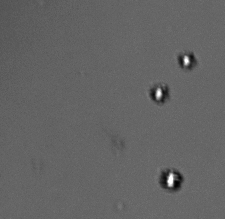Living Cell: (157, 166, 183, 193), (148, 83, 171, 105), (175, 49, 198, 70)
